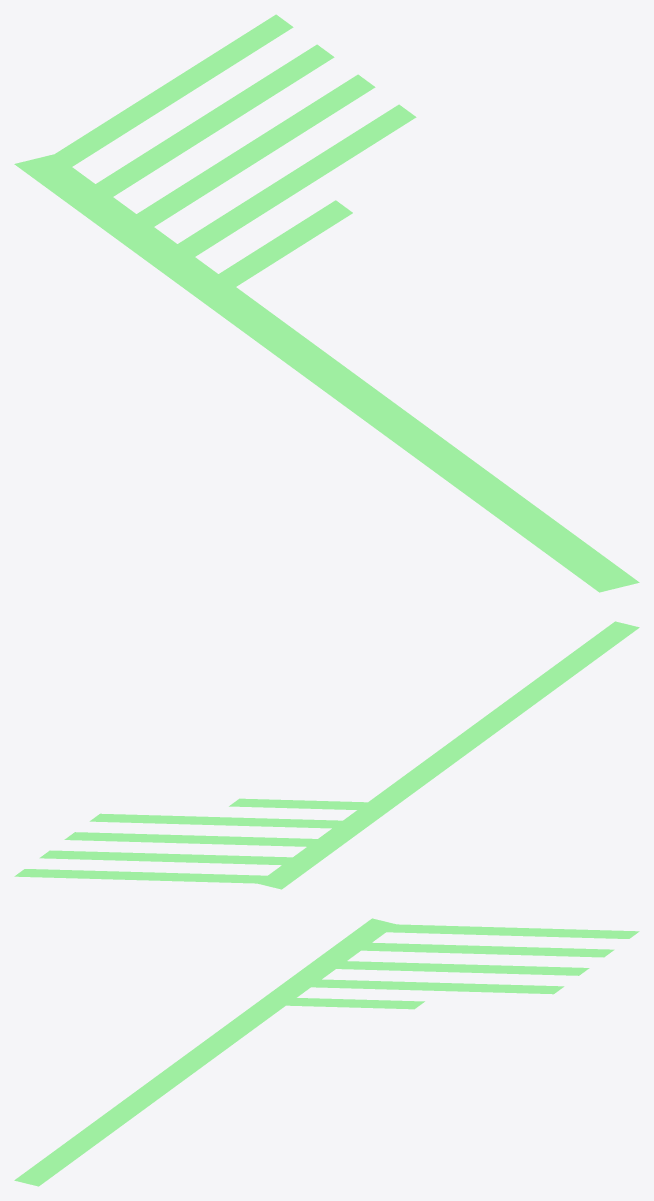
File: 010nhemi04250475kts.dae
3 views of the same model, one above another, from view 1: azimuth 30°, elevation 25°; view 2: azimuth 150°, elevation 25°; view 3: azimuth 330°, elevation 25° (orthographic). The views are drawn at different scales.
Parts seen in each view (by area): view 1: Plane; view 2: Plane; view 3: Plane.
Part boxes in pixels (bbox=[...]): Plane: bbox=[14, 15, 639, 592]; Plane: bbox=[15, 621, 639, 889]; Plane: bbox=[14, 918, 638, 1186].
Size of the model in its own units: 34.51 by 115 by 0.
